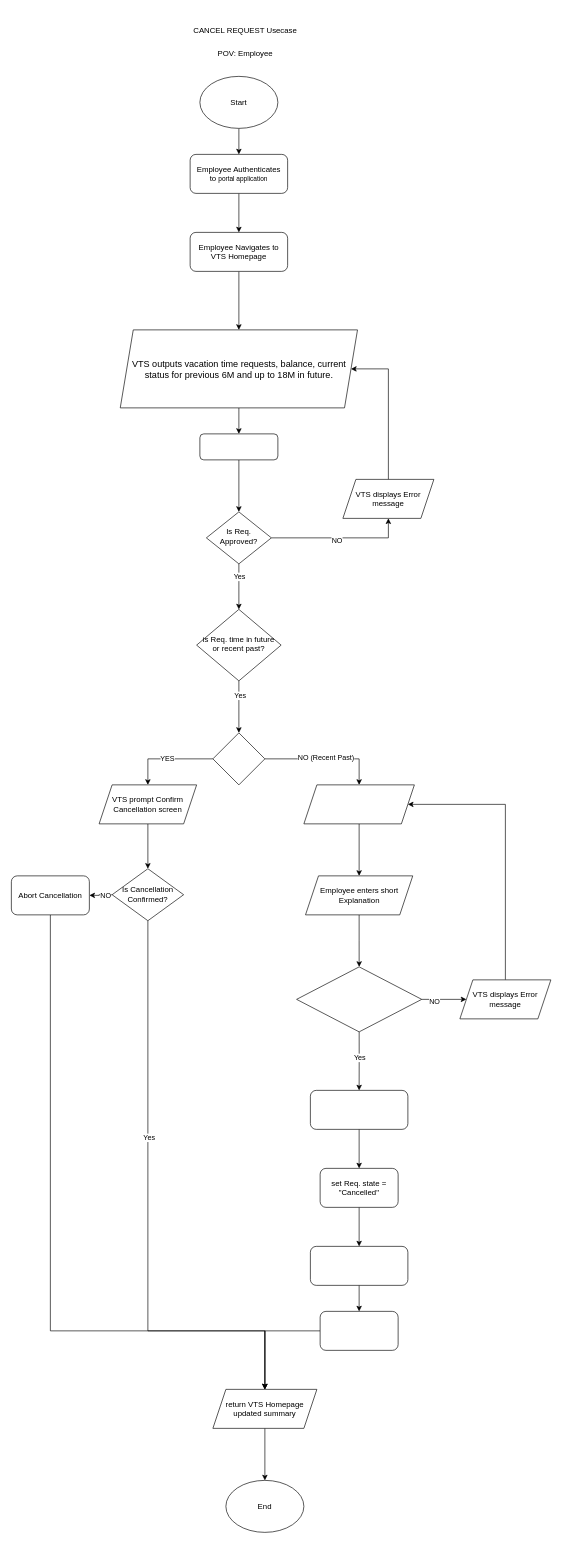
Image size: 562x1544. Some labels were removed from this diagram. The centre of each missing label's shape, as x and y in pixels:
"did Employee Approve with Explanation?" belongs at pixel 359 999.
"Is Req in future?" belongs at pixel 238 758.
"Return time allowance to Employee" belongs at pixel 359 1265.
"Select a vacation Req. to Cancel" belongs at pixel 238 446.
"Send e-mail notification to manager" belongs at pixel 359 1109.
"update Employee's Req. summaries" belongs at pixel 358 1330.
"VTS prompt Confirm Cancellation screen & Explanation box" belongs at pixel 358 804.
